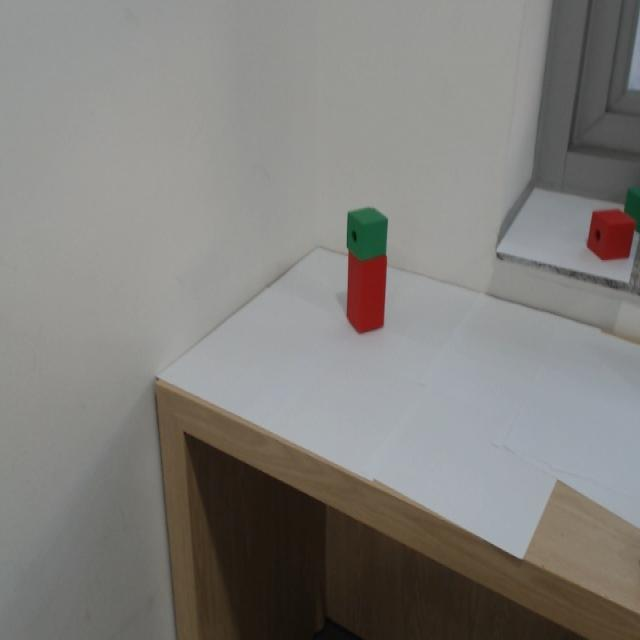cube: (348, 190, 394, 263)
